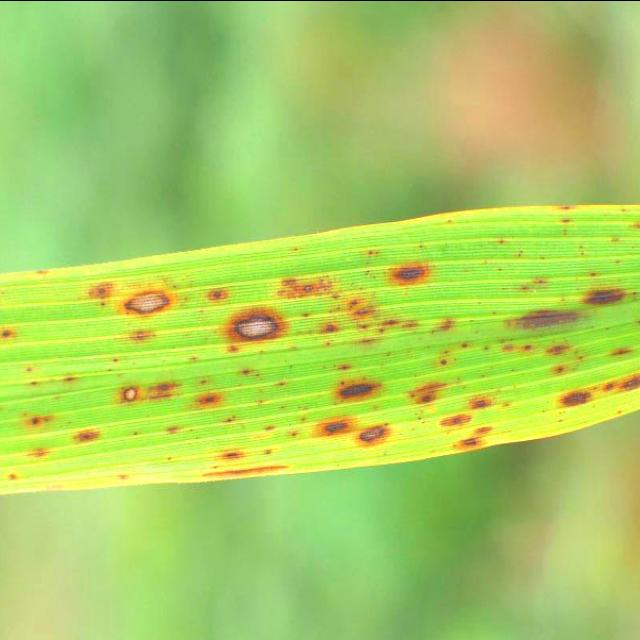Brown_Spot: (501, 290, 591, 342), (218, 308, 280, 350), (321, 366, 378, 406), (117, 284, 177, 320), (379, 253, 435, 289), (585, 274, 633, 316), (397, 374, 444, 416), (546, 383, 594, 423), (306, 411, 356, 444), (187, 380, 224, 422), (594, 361, 640, 394), (77, 270, 111, 310), (349, 421, 391, 449), (18, 398, 60, 423), (196, 461, 288, 471), (432, 406, 472, 428), (211, 437, 250, 459), (117, 372, 140, 409), (446, 432, 489, 451), (464, 387, 492, 415), (70, 422, 100, 442), (23, 442, 50, 464), (0, 316, 18, 344), (4, 472, 18, 480)
